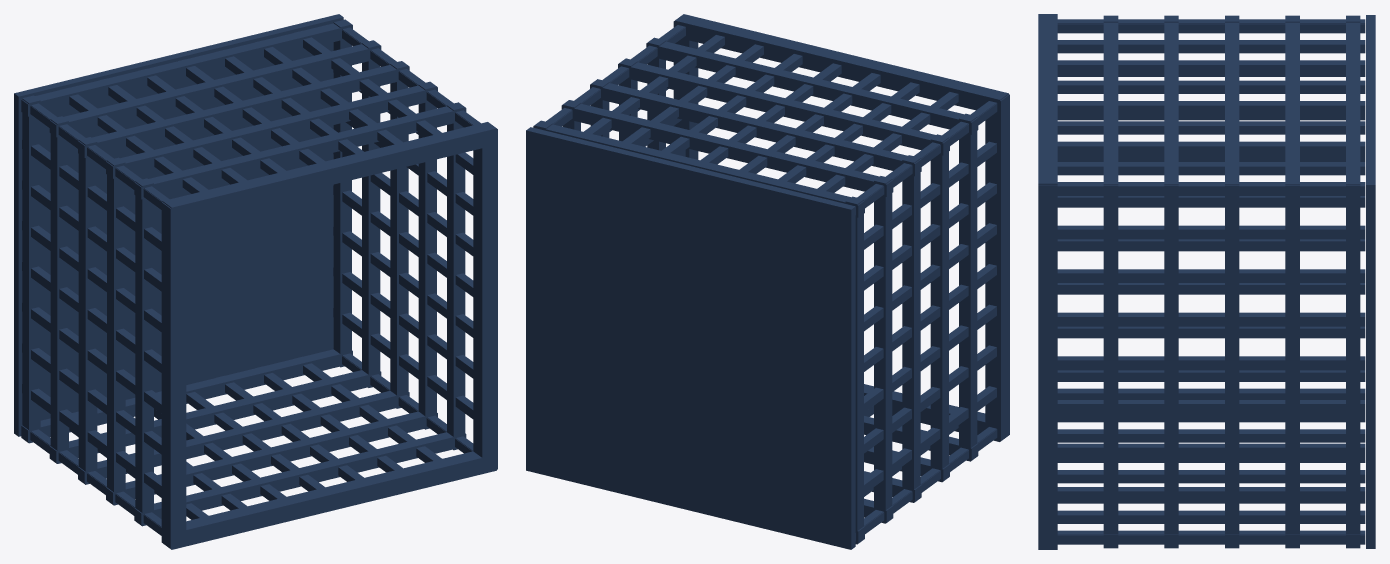
File: crate_lattice.glb
3 views of the same model, side by side, from view 1: azimuth 30°, elevation 25°; view 2: azimuth 150°, elevation 25°; view 3: azimuth 270°, elevation 25° (orthographic). The views are drawn at different scales.
Visible parts, largest first — view 1: crate_lattice; view 2: crate_lattice; view 3: crate_lattice.
Boxes of the visible parts, x1,y1,x2,y2 form: crate_lattice: (14,14,497,549); crate_lattice: (526,14,1009,549); crate_lattice: (1038,14,1375,549).
Bounding box in the file's own units: 0.3352 × 0.3352 × 0.2799.
